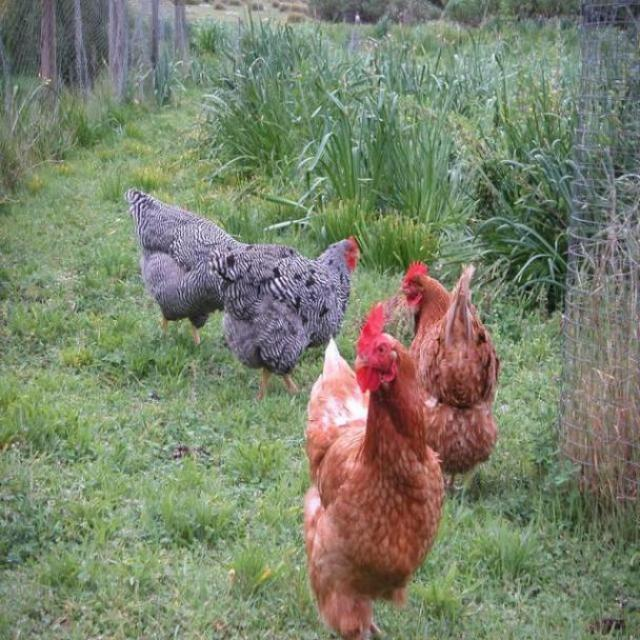Chicken: (302, 301, 442, 640), (387, 257, 505, 499), (202, 245, 365, 407), (120, 187, 254, 353)
